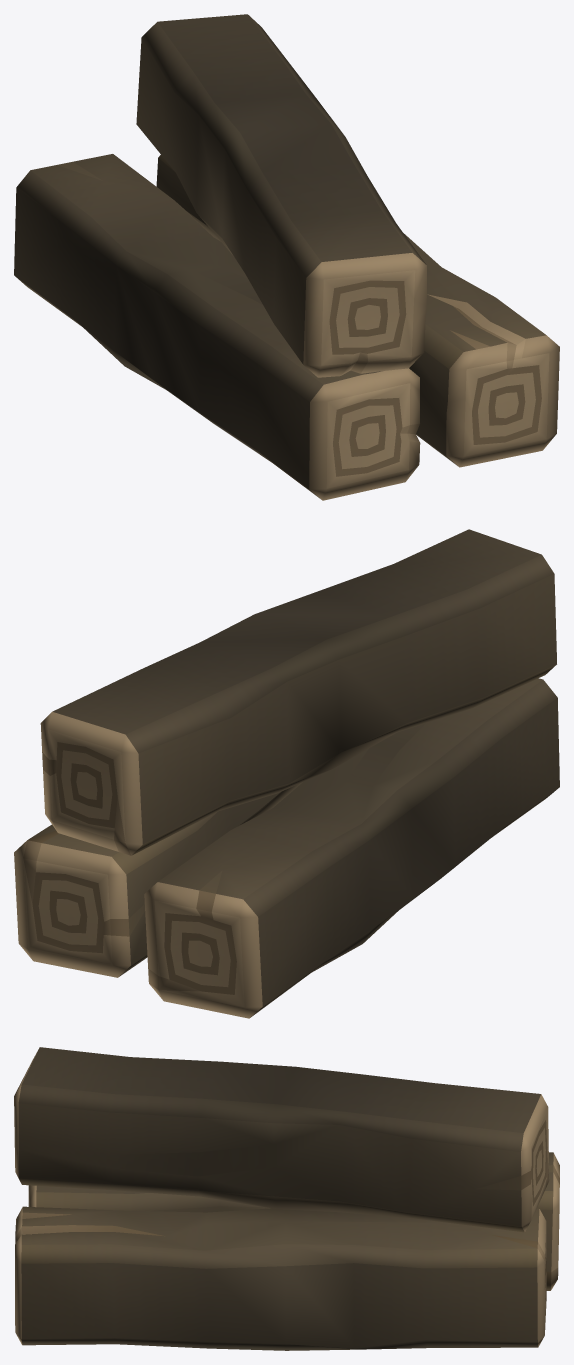
Rendered from wood_pile_small.fbx.
3 renders of one model, top to bottom at view 1: azimuth 30°, elevation 25°; view 2: azimuth 150°, elevation 25°; view 3: azimuth 270°, elevation 25°, orthographic. The views are drawn at different scales.
Visible parts, largest first — view 1: wood_pile_small; view 2: wood_pile_small; view 3: wood_pile_small.
Part boxes in pixels (x1=…): wood_pile_small: x1=14, y1=14, x2=559, y2=500; wood_pile_small: x1=14, y1=529, x2=559, y2=1018; wood_pile_small: x1=14, y1=1047, x2=559, y2=1350.
Bounding box in the file's own units: 152 × 145 × 323.
